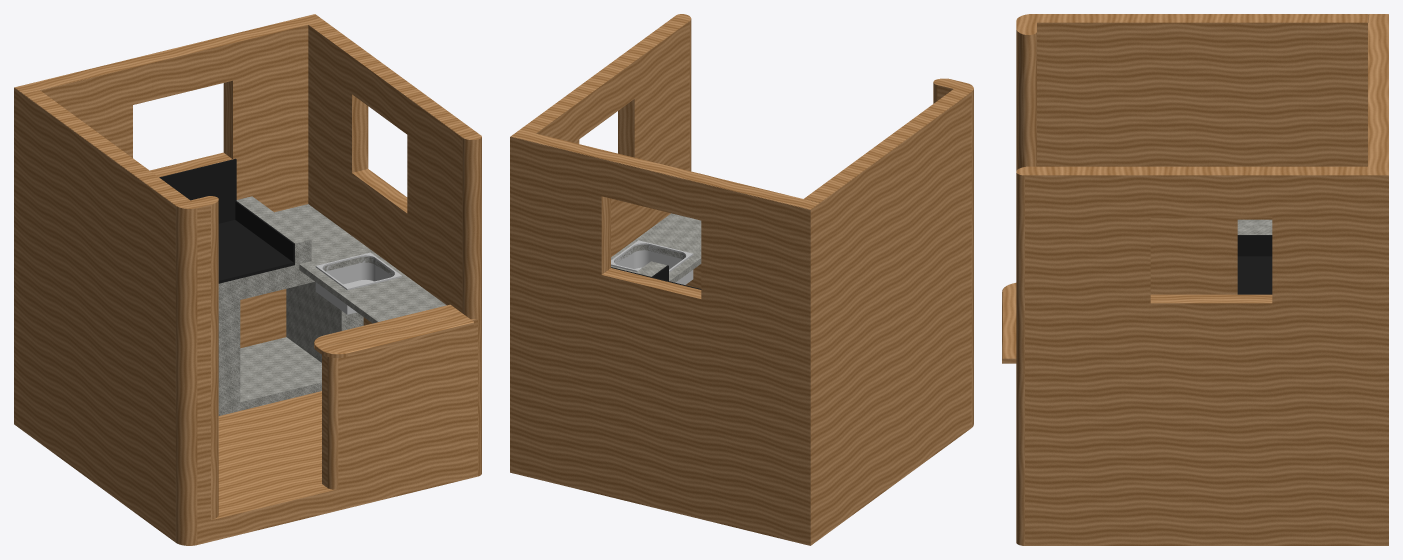
File: barbacoa-v13-mwrnfo2j-uv-corregido.glb
3 renders of one model, left to right at view 1: azimuth 30°, elevation 25°; view 2: azimuth 150°, elevation 25°; view 3: azimuth 270°, elevation 25°, orthographic. The views are drawn at different scales.
Visible parts, largest first — view 1: Body2, Body3, Body7, Body5, Body6, Body10, Body11, Body9, Body12; view 2: Body2, Body7, Body11; view 3: Body2, Body6, Body13.
Boxes of the visible parts, x1=… form: Body2: x1=14, y1=14, x2=481, y2=545; Body3: x1=218, y1=281, x2=363, y2=415; Body7: x1=299, y1=247, x2=446, y2=323; Body5: x1=218, y1=204, x2=367, y2=304; Body6: x1=218, y1=220, x2=294, y2=283; Body10: x1=159, y1=158, x2=236, y2=223; Body11: x1=315, y1=252, x2=401, y2=314; Body9: x1=236, y1=196, x2=311, y2=264; Body12: x1=235, y1=201, x2=294, y2=262; Body2: x1=510, y1=14, x2=973, y2=545; Body7: x1=611, y1=213, x2=701, y2=282; Body11: x1=611, y1=240, x2=693, y2=284; Body2: x1=1002, y1=14, x2=1388, y2=545; Body6: x1=1237, y1=256, x2=1272, y2=294; Body13: x1=1237, y1=235, x2=1272, y2=256.
Size of the model in its own units: 2.2 by 2.35 by 2.23.
4 materials, 2 textured.
